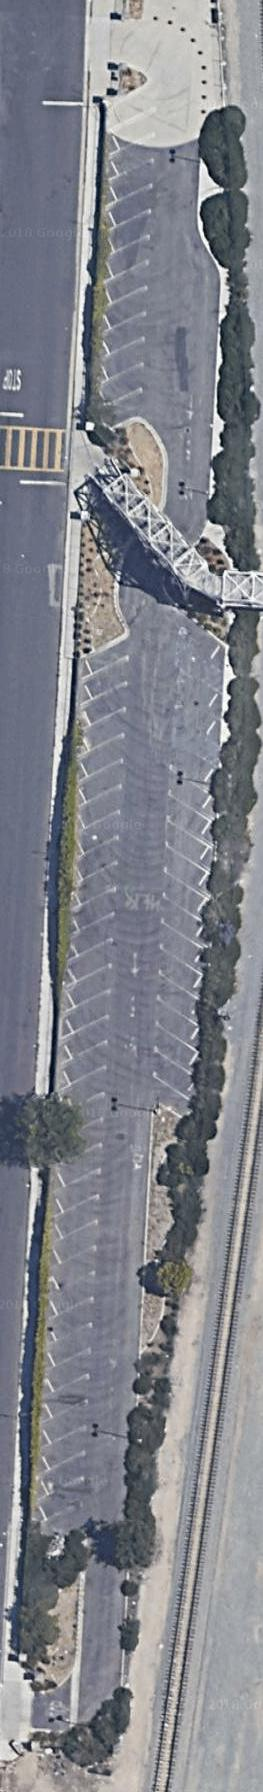parkingspot: (32, 631, 133, 1541), (149, 741, 220, 1120), (89, 77, 162, 427), (170, 665, 224, 738), (177, 614, 228, 662)
